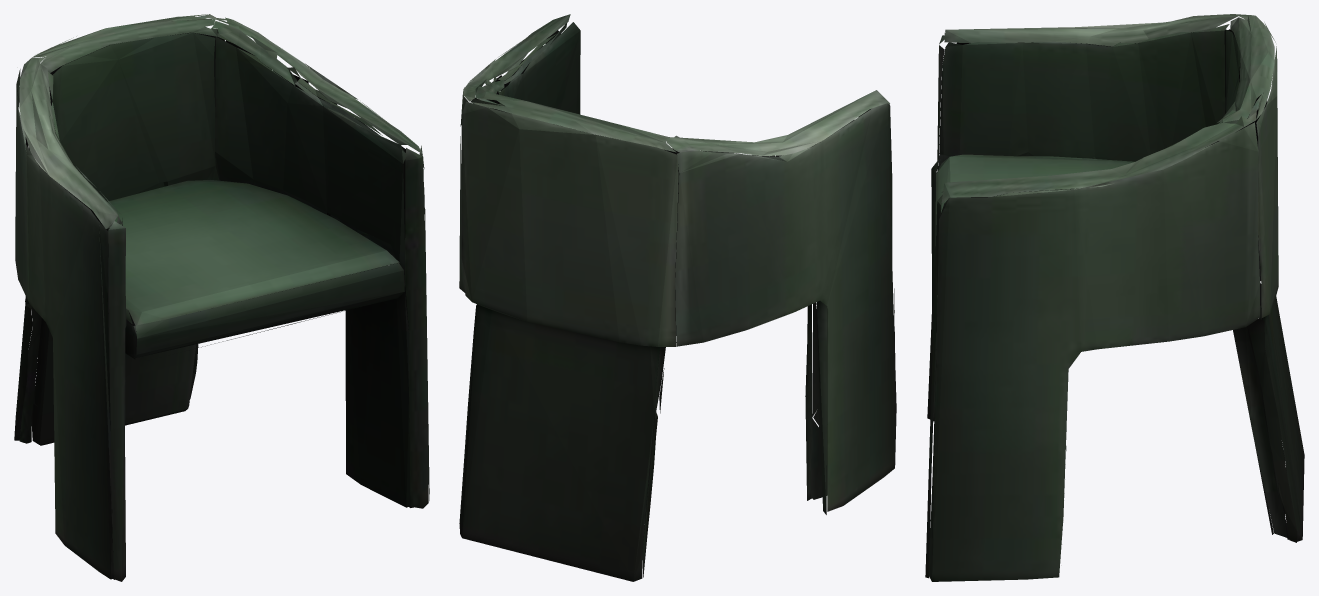
The model's file is c-chaise-sauge.glb.
The picture shows the model from 3 angles, left to right: view 1: azimuth 30°, elevation 25°; view 2: azimuth 150°, elevation 25°; view 3: azimuth 270°, elevation 25°; orthographic projection. The views are drawn at different scales.
Parts seen in each view (by area): view 1: geometry_0; view 2: geometry_0; view 3: geometry_0.
Boxes of the visible parts, bbox=[...] form: geometry_0: bbox=[14, 14, 429, 581]; geometry_0: bbox=[459, 14, 896, 581]; geometry_0: bbox=[925, 14, 1304, 581].
Size of the model in its own units: 0.8249 by 1 by 0.7772.
Materials: 1 (1 with a texture image).
